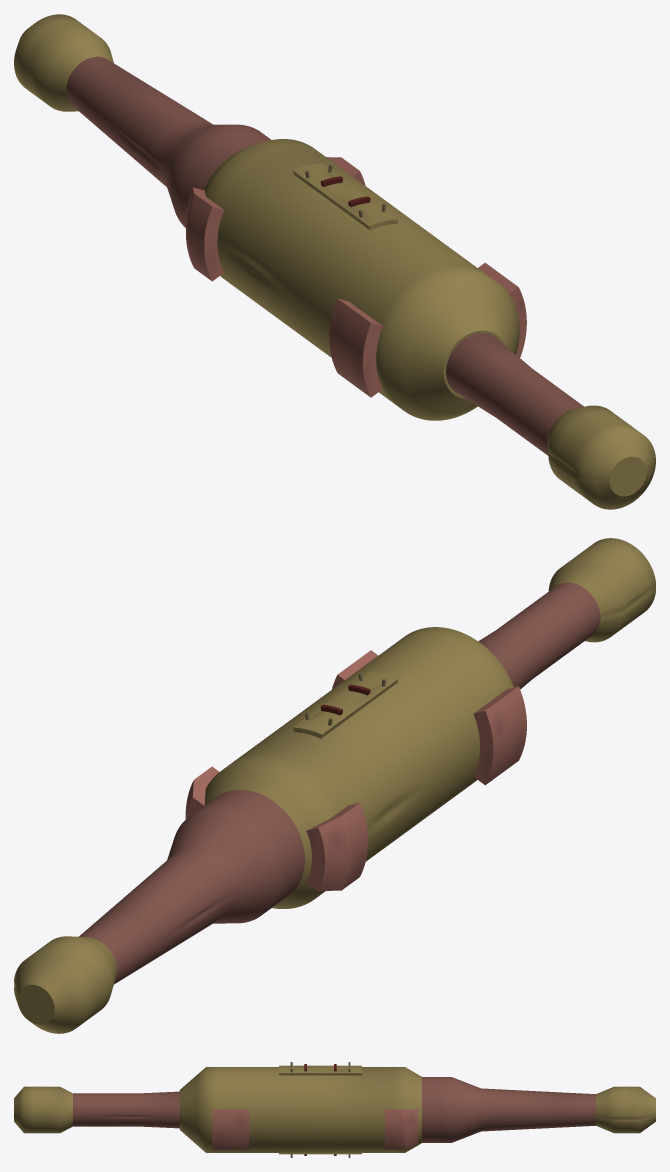
3 views of the same model, one above another, from view 1: azimuth 30°, elevation 25°; view 2: azimuth 150°, elevation 25°; view 3: azimuth 270°, elevation 25° (orthographic). The views are drawn at different scales.
Parts seen in each view (by area): view 1: Braccatian Anti-Outbreak gold main body, Braccatian Anti-Outbreak copper rear shoulder, Braccatian Anti-Outbreak gold forward terminal, Braccatian Anti-Outbreak copper forward connector, Braccatian Anti-Outbreak gold rear terminal, Braccatian Anti-Outbreak pink side casting 0 1, Braccatian Anti-Outbreak pink side casting 1 1, Braccatian Anti-Outbreak service cover 1, Braccatian Anti-Outbreak pink side casting 0 0; view 2: Braccatian Anti-Outbreak gold main body, Braccatian Anti-Outbreak copper rear shoulder, Braccatian Anti-Outbreak gold rear terminal, Braccatian Anti-Outbreak copper forward connector, Braccatian Anti-Outbreak gold forward terminal, Braccatian Anti-Outbreak pink side casting 1 1, Braccatian Anti-Outbreak pink side casting 0 1, Braccatian Anti-Outbreak service cover 1, Braccatian Anti-Outbreak pink side casting 1 0; view 3: Braccatian Anti-Outbreak gold main body, Braccatian Anti-Outbreak copper rear shoulder, Braccatian Anti-Outbreak copper forward connector, Braccatian Anti-Outbreak gold forward terminal, Braccatian Anti-Outbreak gold rear terminal, Braccatian Anti-Outbreak pink side casting 0 0, Braccatian Anti-Outbreak pink side casting 1 0, Braccatian Anti-Outbreak service cover 1.
Boxes of the visible parts, x1,y1,x2,y2 form: Braccatian Anti-Outbreak gold main body: (204,139,519,420); Braccatian Anti-Outbreak copper rear shoulder: (66,56,270,227); Braccatian Anti-Outbreak gold forward terminal: (547,405,655,509); Braccatian Anti-Outbreak copper forward connector: (446,333,583,455); Braccatian Anti-Outbreak gold rear terminal: (14,14,113,111); Braccatian Anti-Outbreak pink side casting 0 1: (329,298,382,397); Braccatian Anti-Outbreak pink side casting 1 1: (186,187,223,281); Braccatian Anti-Outbreak service cover 1: (293,163,398,230); Braccatian Anti-Outbreak pink side casting 0 0: (478,262,526,357); Braccatian Anti-Outbreak gold main body: (204,627,513,908); Braccatian Anti-Outbreak copper rear shoulder: (79,790,304,984); Braccatian Anti-Outbreak gold rear terminal: (14,936,116,1033); Braccatian Anti-Outbreak copper forward connector: (478,582,600,689); Braccatian Anti-Outbreak gold forward terminal: (548,538,655,642); Braccatian Anti-Outbreak pink side casting 1 1: (306,802,367,891); Braccatian Anti-Outbreak pink side casting 0 1: (473,686,526,785); Braccatian Anti-Outbreak service cover 1: (293,671,398,738); Braccatian Anti-Outbreak pink side casting 1 0: (185,766,218,819); Braccatian Anti-Outbreak gold main body: (179,1067,421,1152); Braccatian Anti-Outbreak copper rear shoulder: (422,1077,596,1142); Braccatian Anti-Outbreak copper forward connector: (73,1091,179,1128); Braccatian Anti-Outbreak gold forward terminal: (14,1086,72,1133); Braccatian Anti-Outbreak gold rear terminal: (596,1086,655,1133); Braccatian Anti-Outbreak pink side casting 0 0: (212,1109,249,1149); Braccatian Anti-Outbreak pink side casting 1 0: (385,1109,418,1149); Braccatian Anti-Outbreak service cover 1: (279,1065,361,1075).
Size of the model in its own units: 0.31 by 0.2973 by 1.94.
Materials: 5 (3 with a texture image).
